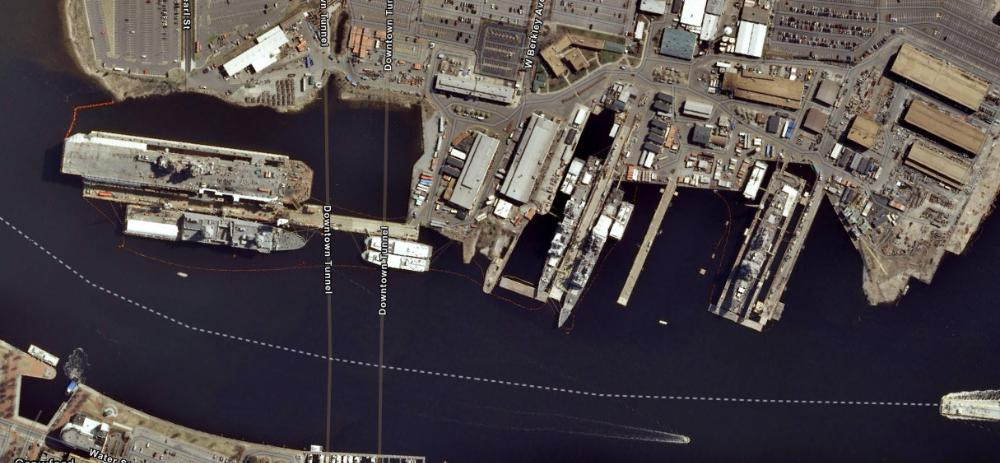cruiser: (547, 186, 641, 329)
pha: (60, 130, 312, 206)
